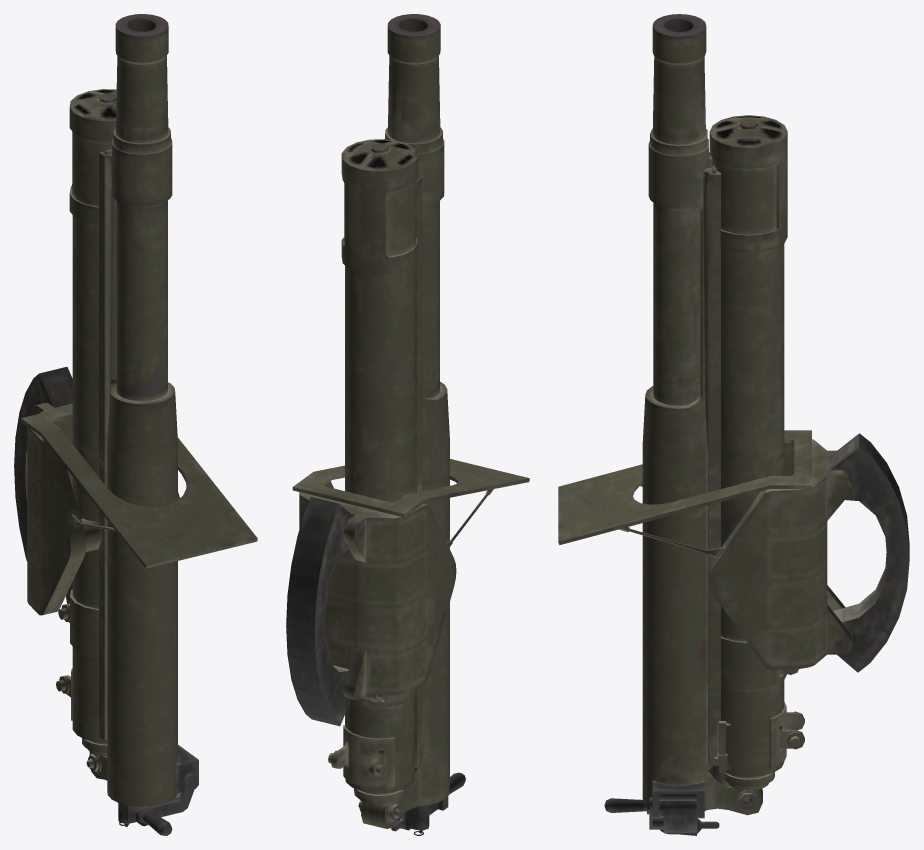
Rendered from Gun_02.glb.
3 views of the same model, side by side, from view 1: azimuth 30°, elevation 25°; view 2: azimuth 150°, elevation 25°; view 3: azimuth 270°, elevation 25° (orthographic).
Visible parts, largest first — view 1: set_0_group_0; view 2: set_0_group_0; view 3: set_0_group_0.
Part boxes in pixels (bbox=[...]): set_0_group_0: bbox=[14, 14, 257, 835]; set_0_group_0: bbox=[286, 14, 529, 835]; set_0_group_0: bbox=[558, 14, 909, 835].
Bounding box in the file's own units: 0.3545 × 2.39 × 0.938.
1 material, 1 textured.
